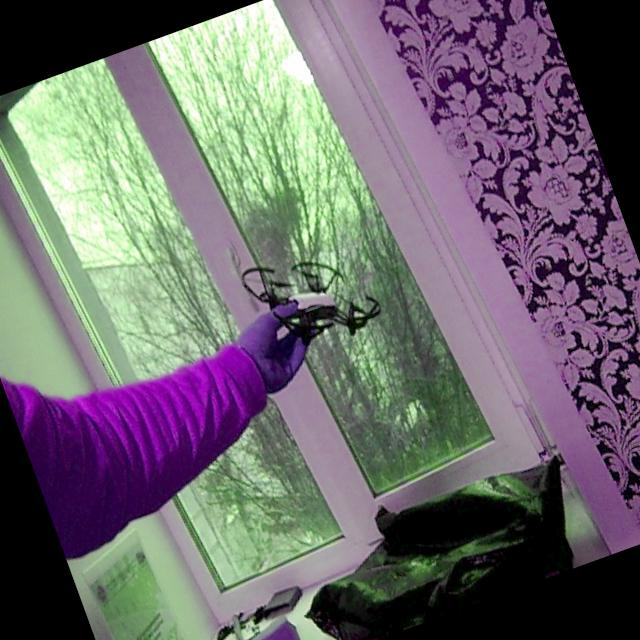drone: (224, 209, 402, 387)
